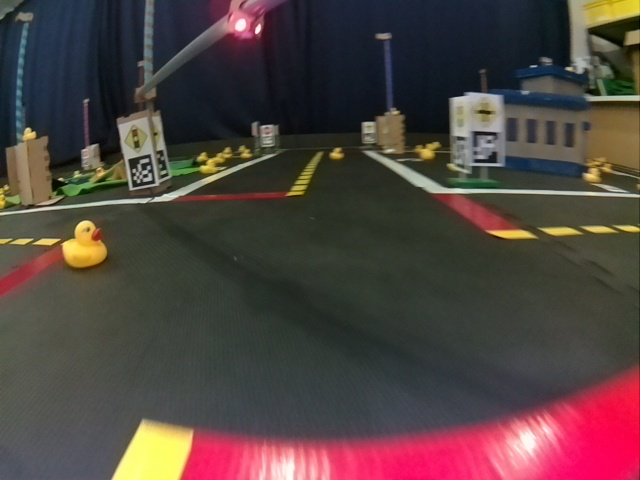Duckie: (62, 223, 105, 265), (584, 169, 598, 183), (25, 127, 35, 137), (331, 148, 340, 158), (205, 162, 214, 172), (241, 150, 249, 159), (421, 148, 428, 157)
Intersection sign: (469, 97, 501, 130)
QR code: (474, 133, 501, 167), (128, 157, 150, 183)
Signal sign: (118, 122, 150, 152)
Traffic light: (231, 1, 263, 40)
